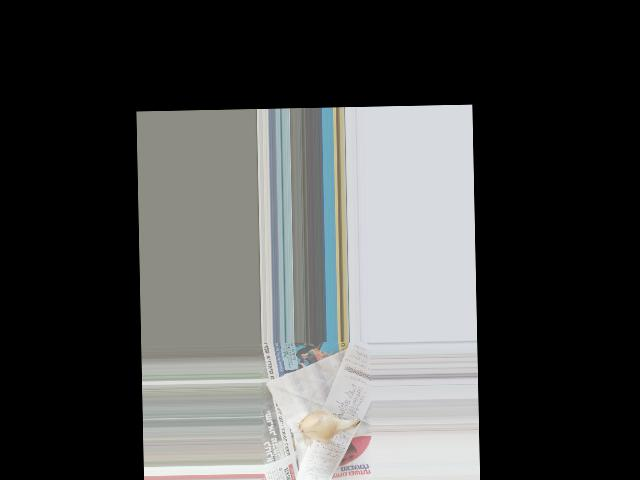onion: (303, 410, 344, 438)
